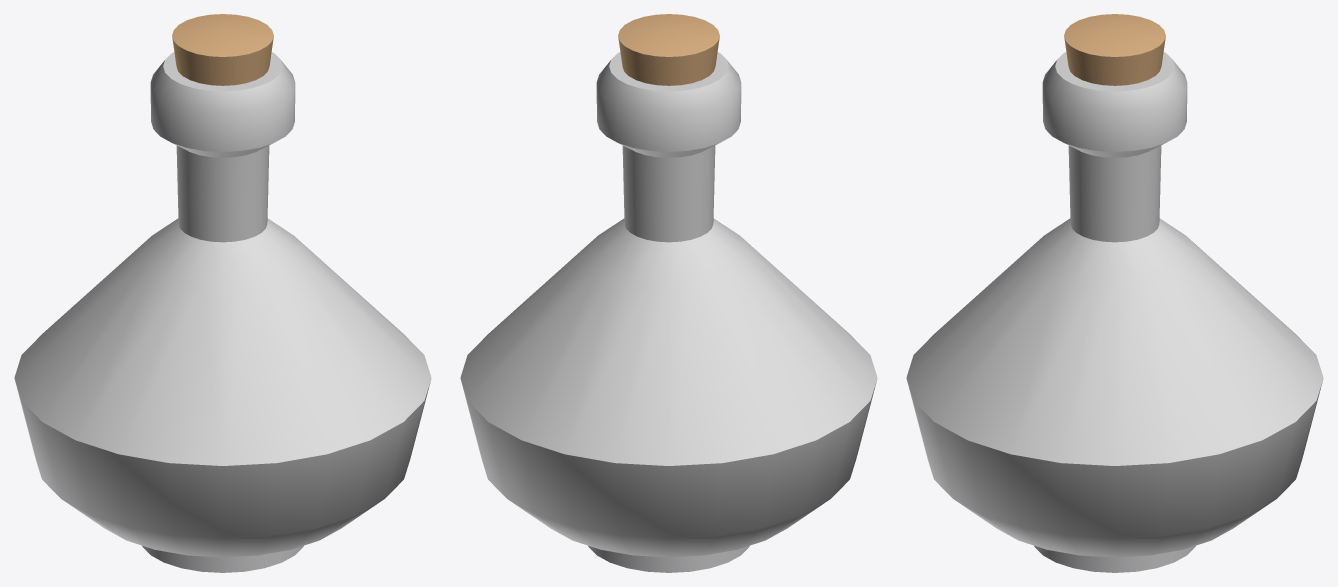
The model's file is potionMedium_red.dae.
3 views of the same model, side by side, from view 1: azimuth 30°, elevation 25°; view 2: azimuth 150°, elevation 25°; view 3: azimuth 270°, elevation 25° (orthographic).
Parts seen in each view (by area): view 1: potionMedium_red; view 2: potionMedium_red; view 3: potionMedium_red.
Boxes of the visible parts, x1,y1,x2,y2 form: potionMedium_red: [14, 14, 431, 572]; potionMedium_red: [460, 14, 877, 572]; potionMedium_red: [906, 14, 1323, 572].
Bounding box in the file's own units: 0.7978 × 0.7978 × 1.08.
